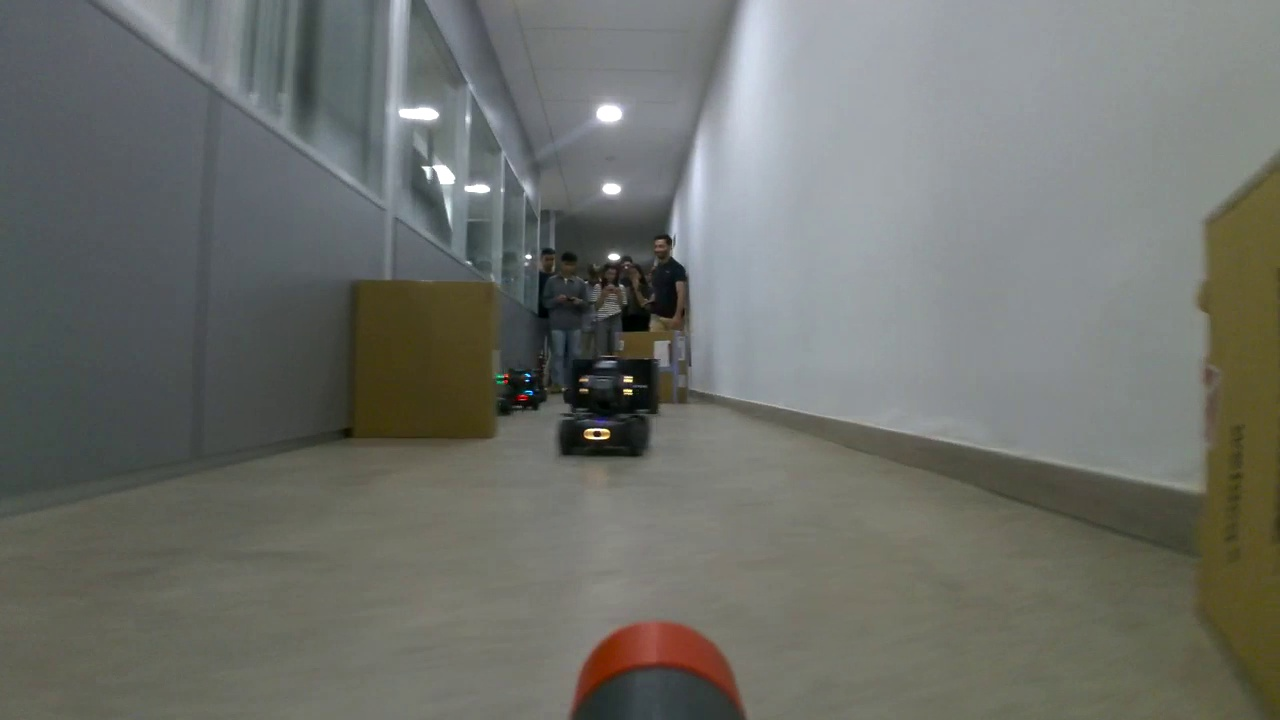robot: (557, 356, 653, 459)
